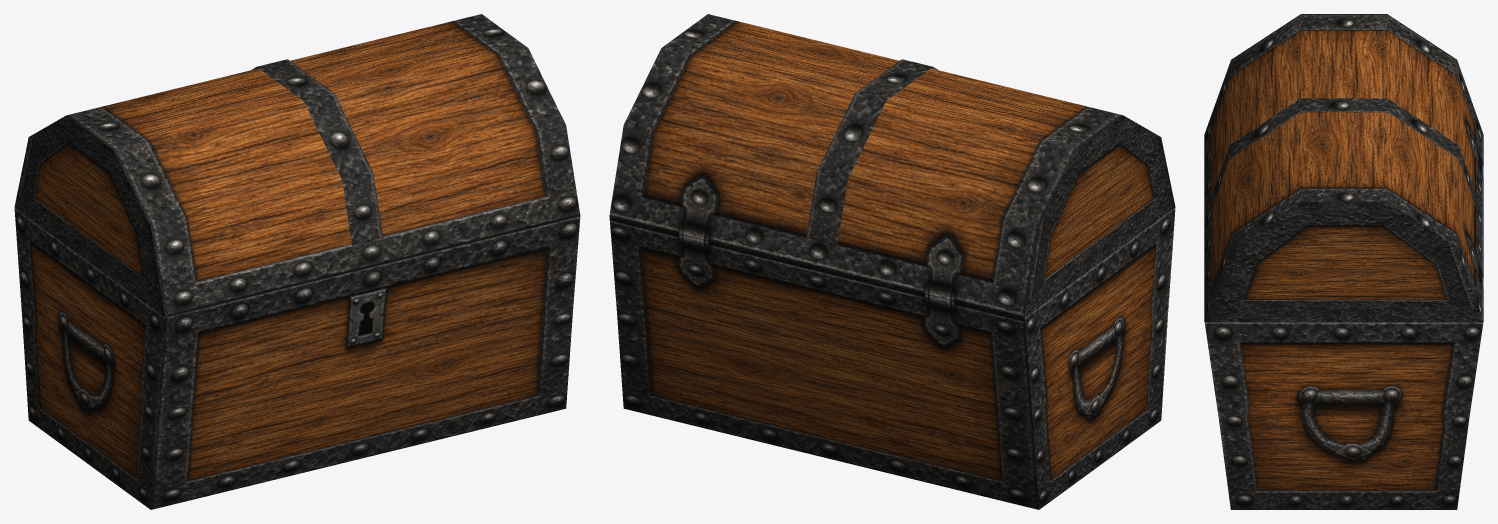
The model's file is mm9_deco_chest3.glb.
3 renders of one model, left to right at view 1: azimuth 30°, elevation 25°; view 2: azimuth 150°, elevation 25°; view 3: azimuth 270°, elevation 25°, orthographic. The views are drawn at different scales.
Parts seen in each view (by area): view 1: Chest3; view 2: Chest3; view 3: Chest3.
Part boxes in pixels (left/top/right/bottom): Chest3: left=14, top=14, right=580, bottom=509; Chest3: left=609, top=14, right=1175, bottom=509; Chest3: left=1204, top=14, right=1483, bottom=509.
Bounding box in the file's own units: 1 × 0.7714 × 0.6291.
1 material, 1 textured.
